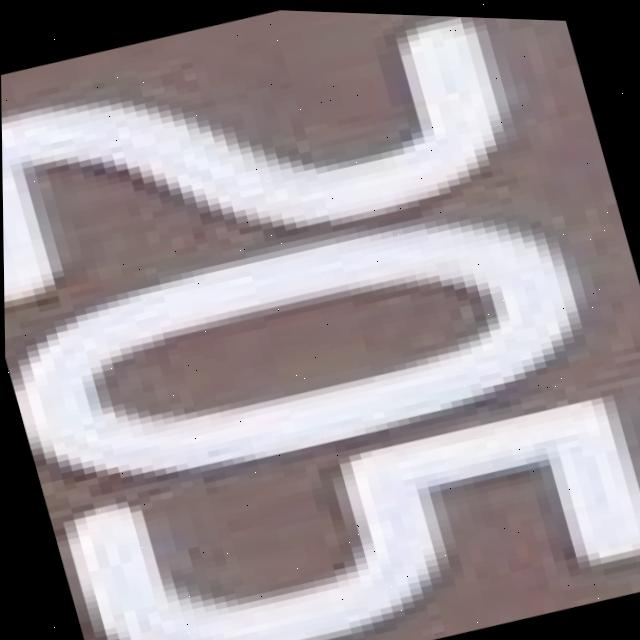character: (2, 157, 620, 528), (0, 0, 543, 331), (43, 352, 640, 640)
